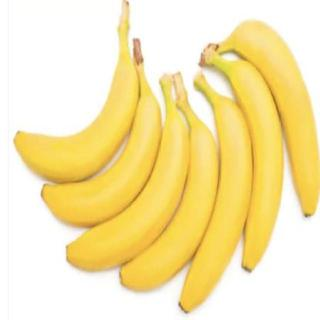banana: (64, 106, 190, 272), (232, 16, 320, 218), (118, 120, 220, 294), (176, 95, 254, 317), (40, 90, 163, 230), (12, 54, 140, 184), (227, 60, 285, 274)
